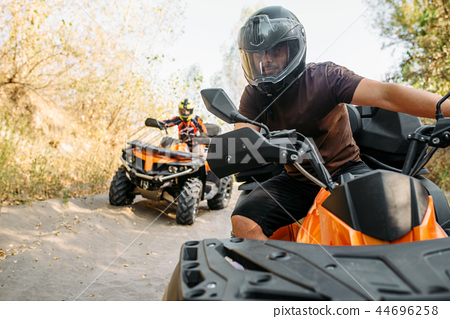helmet: (236, 5, 304, 93)
